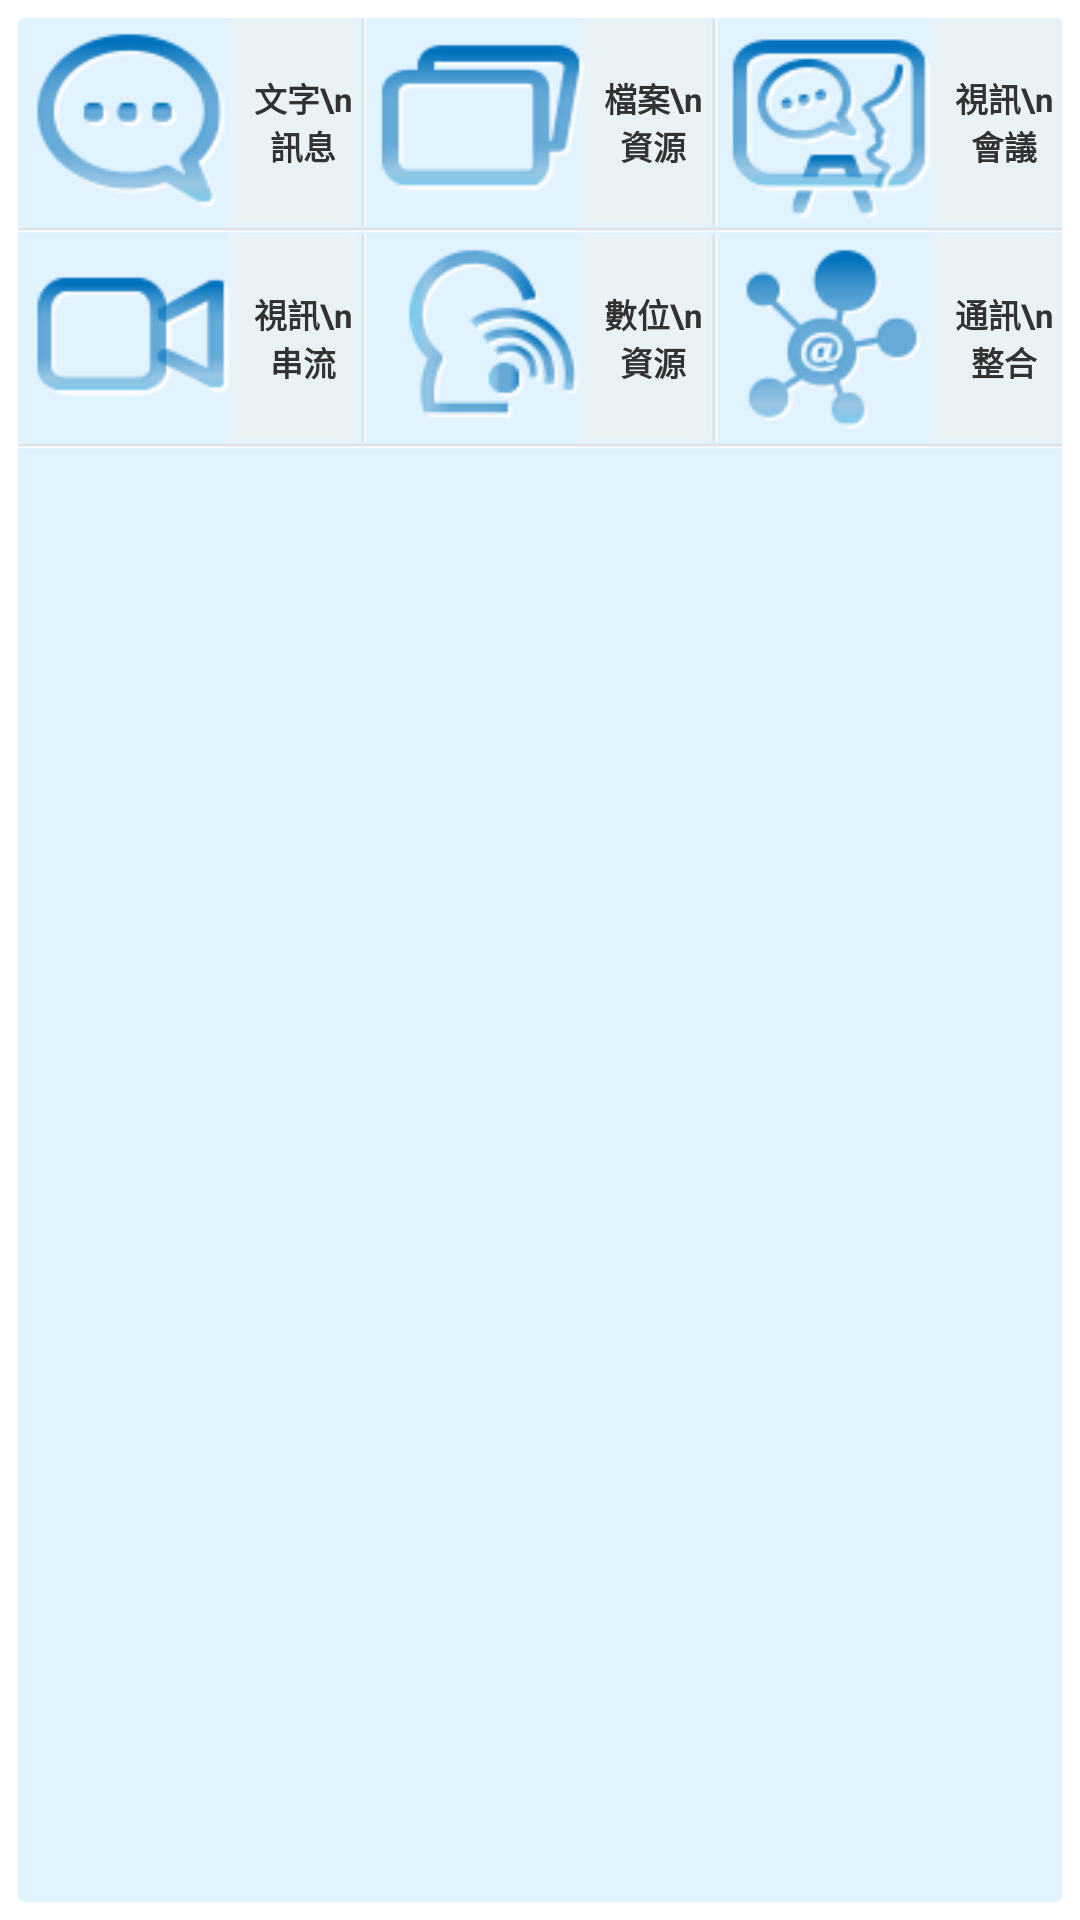

Screen size 1080px×1920px. Icon name, then its center in pixels as [x,y]:
webdas shared chatroom: [132,122]
